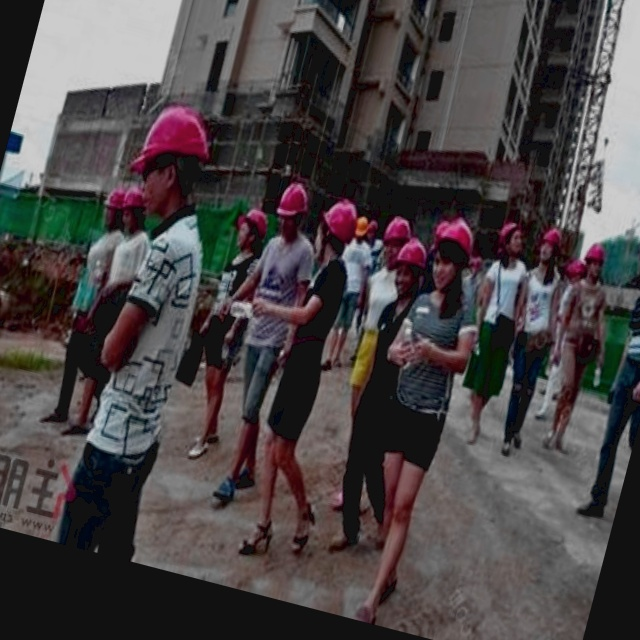Con_Casco: (124, 99, 214, 221), (426, 215, 478, 296), (270, 179, 312, 241)
